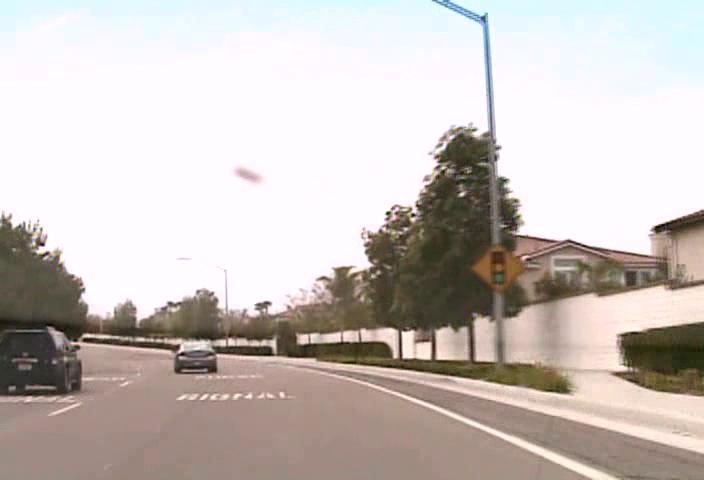signalAhead: (470, 242, 526, 294)
